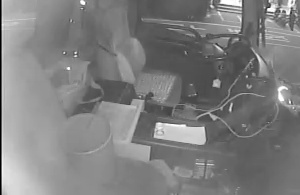paper: (153, 121, 207, 145)
